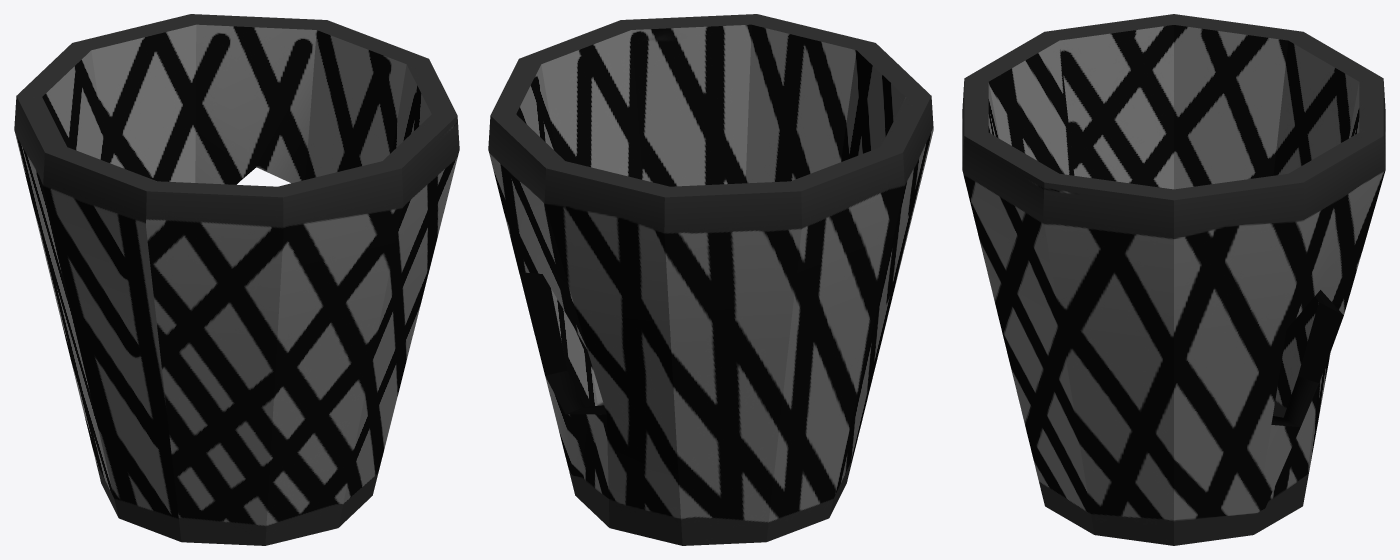
The model's file is bin.fbx.
3 renders of one model, left to right at view 1: azimuth 30°, elevation 25°; view 2: azimuth 150°, elevation 25°; view 3: azimuth 270°, elevation 25°, orthographic.
Parts seen in each view (by area): view 1: Bin; view 2: Bin; view 3: Bin.
Part boxes in pixels (box(x1,y1,x2,y2)): Bin: box(14, 14, 459, 545); Bin: box(488, 14, 933, 545); Bin: box(962, 14, 1385, 545).
Bounding box in the file's own units: 52.77 × 49.9 × 50.19.
